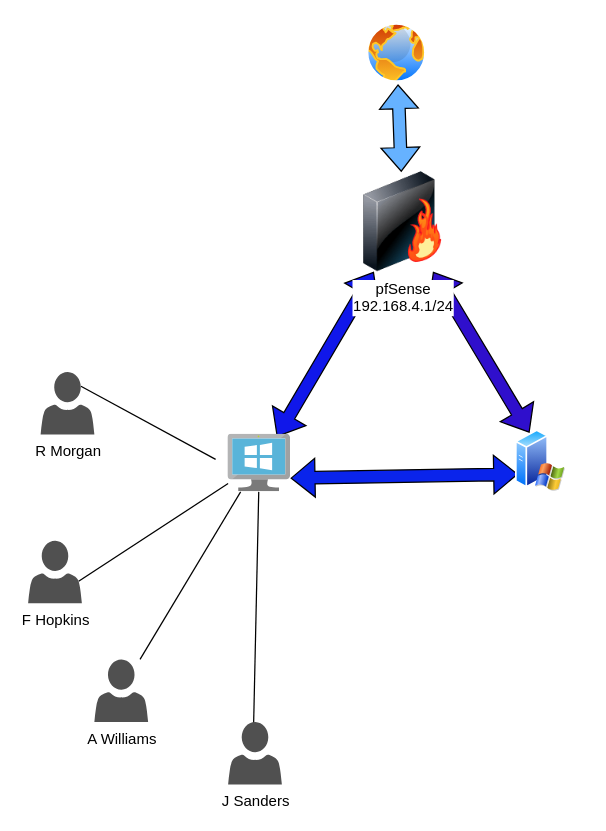
The diagram is 606 pixels wide and 831 high, and some of its shapes have lost their labels. Here are the shapes that lost their labels. From the top down, the centre of each, then its label:
point 396,52: Internet
point 259,462: win 10 pro 192.168.4.90
point 540,460: win server 192.168.4.99
